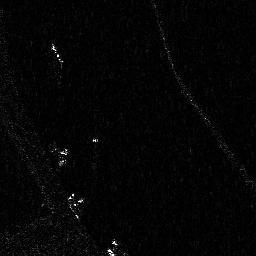ship: (51, 41, 63, 64)
